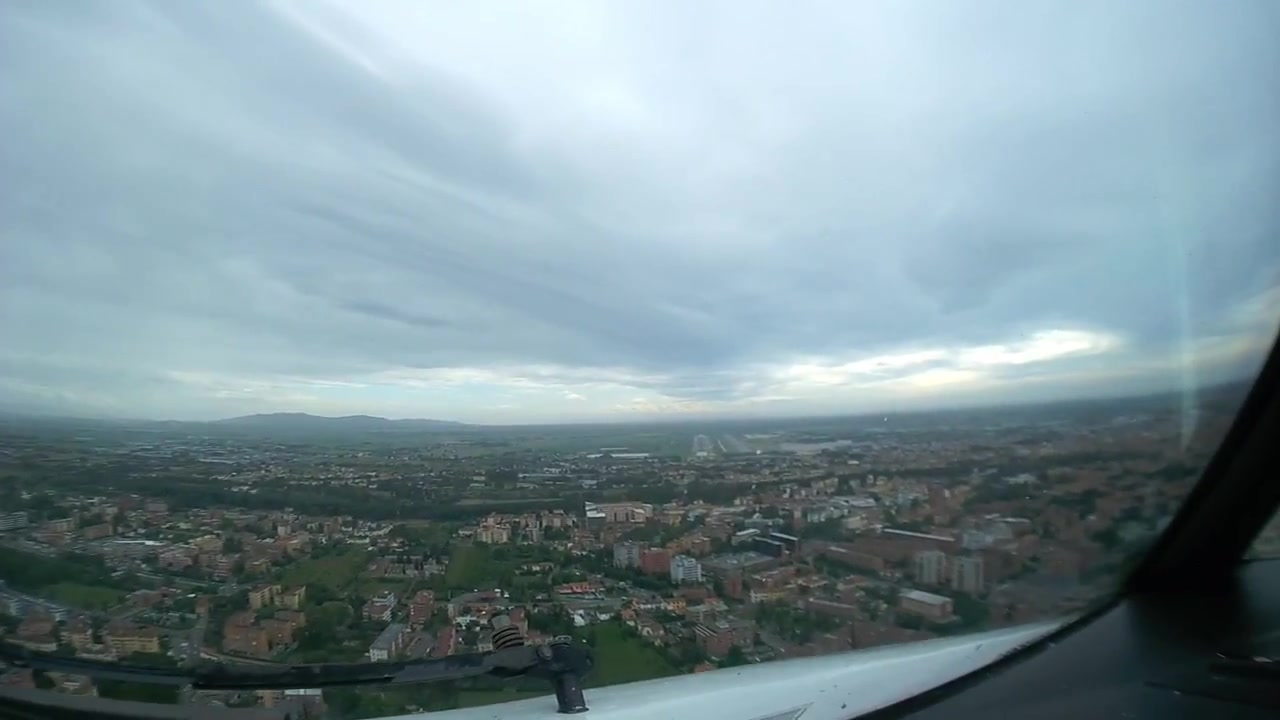runway: (692, 433, 711, 457)
